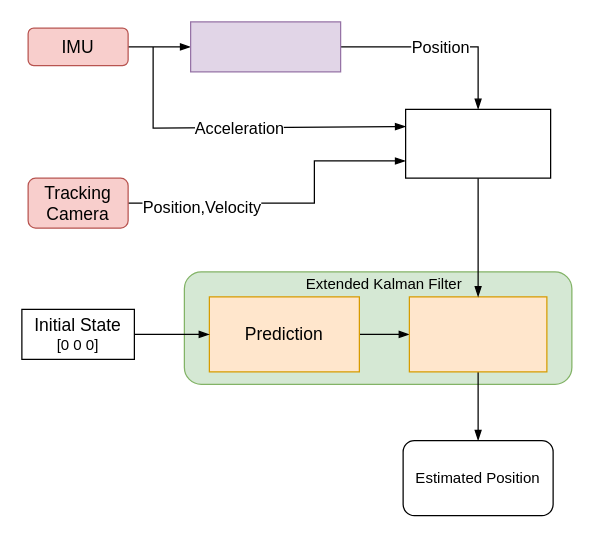
Some shapes in this 594 by 538 pixel diagram are drawn without their labels. The shapes that lost their labels are listed below. From the top down, each one's box as (x1, y1, x2, y2) in pixels, then its label:
(189, 21, 341, 72): Step Detection
(404, 108, 551, 178): Position Velocity Acceleration
(408, 296, 547, 372): Correction
